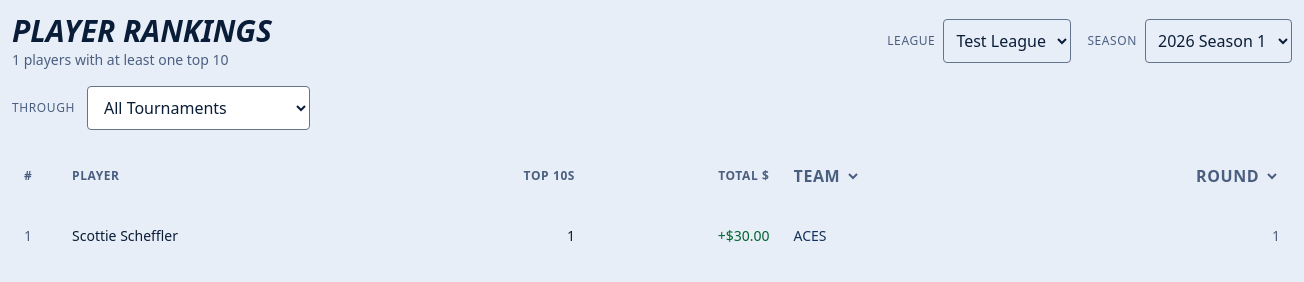
Test case: PlayerRankingsPage › refetches with a different through param when the selector changes
Expected: the cell "+$30.00" is shown, x1=587 y1=206 x2=782 y2=266
Select "Wk 9 — Open A — Final" in the dropdown labelled "Through" at [198, 108], box x1=87 y1=86 x2=310 y2=130
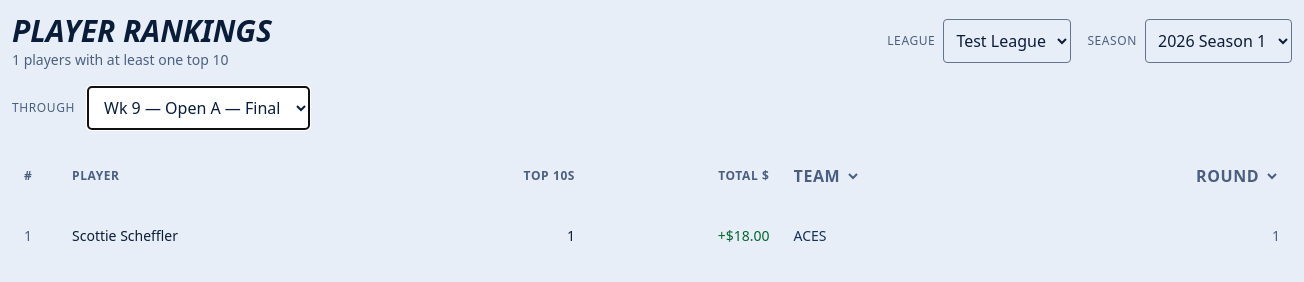
Expected: the text "+$18.00" is shown, x1=716 y1=226 x2=772 y2=244
